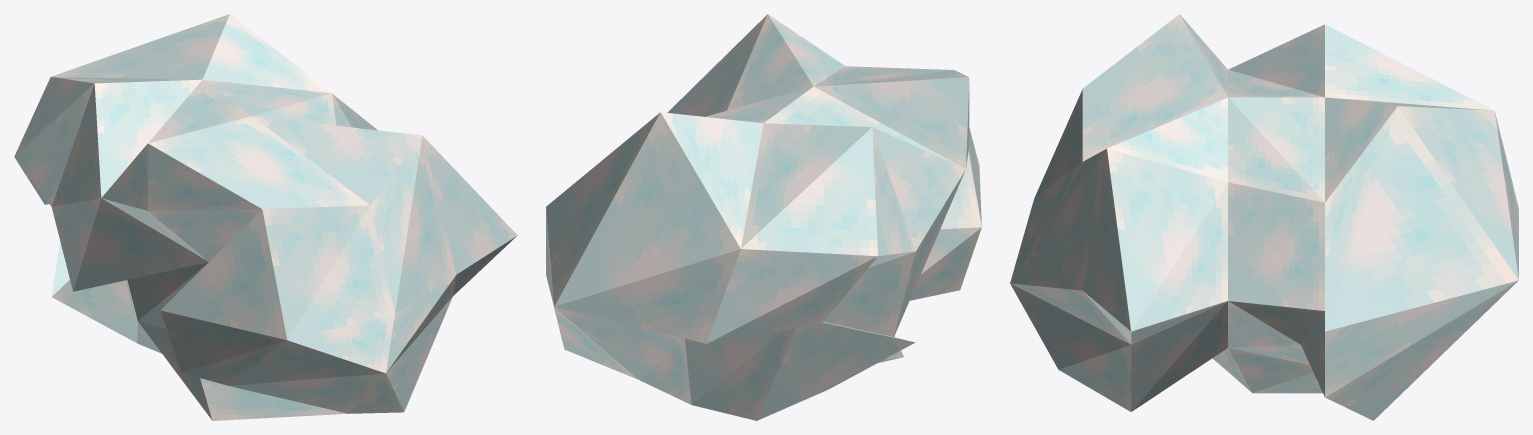
The model's file is cloud.glb.
3 views of the same model, side by side, from view 1: azimuth 30°, elevation 25°; view 2: azimuth 150°, elevation 25°; view 3: azimuth 270°, elevation 25° (orthographic). The views are drawn at different scales.
Visible parts, largest first — view 1: cloud; view 2: cloud; view 3: cloud.
Part boxes in pixels (x1=…): cloud: x1=14, y1=14, x2=517, y2=420; cloud: x1=546, y1=14, x2=981, y2=420; cloud: x1=1010, y1=14, x2=1518, y2=420.
Size of the model in its own units: 4.25 by 3.5 by 5.25.
1 material, 1 textured.
